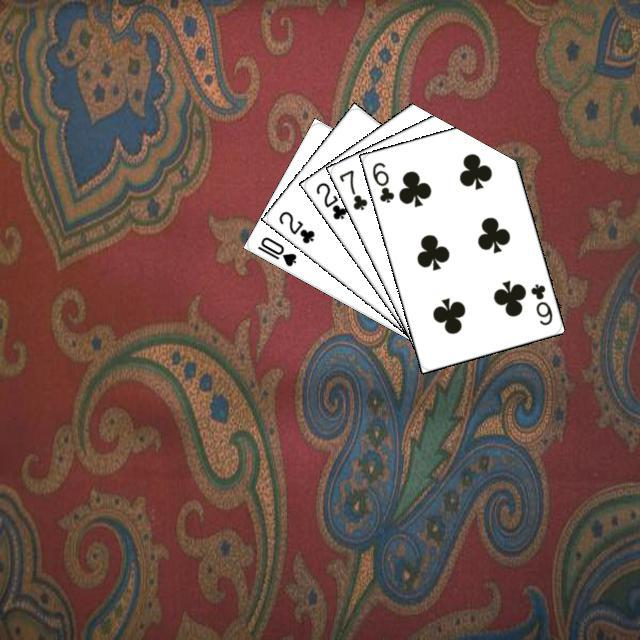10s: (252, 232, 298, 268)
2c: (273, 206, 316, 246), (311, 177, 348, 221)
6c: (367, 157, 396, 205), (526, 279, 554, 327)
7c: (334, 165, 369, 212)
